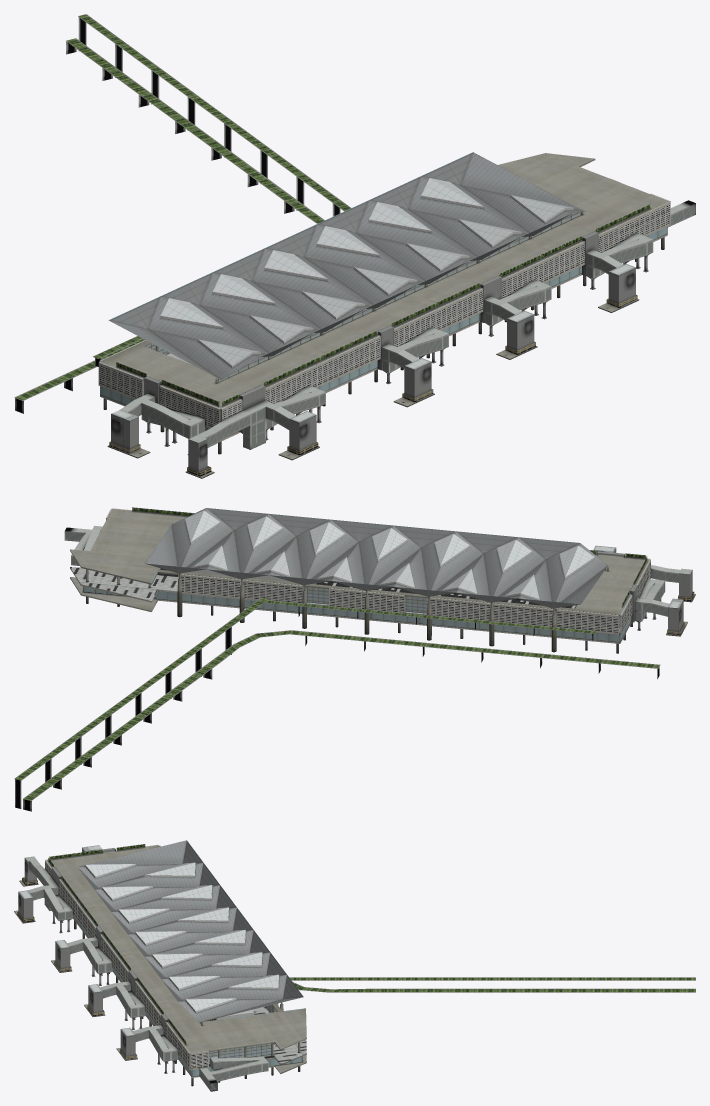
The model's file is terminal_interV4.dae.
3 views of the same model, one above another, from view 1: azimuth 30°, elevation 25°; view 2: azimuth 150°, elevation 25°; view 3: azimuth 270°, elevation 25° (orthographic). The views are drawn at different scales.
Parts seen in each view (by area): view 1: node2, node3; view 2: node2, node3; view 3: node2, node3.
Part boxes in pixels (x1=…): node2: x1=98, y1=152, x2=670, y2=454; node3: x1=14, y1=14, x2=695, y2=478; node2: x1=70, y1=507, x2=650, y2=653; node3: x1=14, y1=525, x2=695, y2=811; node2: x1=45, y1=840, x2=306, y2=1086; node3: x1=14, y1=845, x2=695, y2=1091.
Bounding box in the file's own units: 237 × 22.6 × 278.
2 materials, 2 textured.
